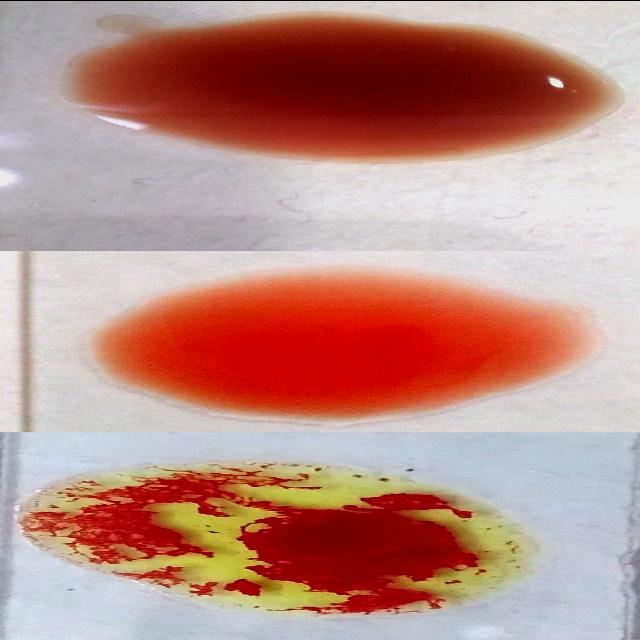B: (31, 456, 525, 612)
